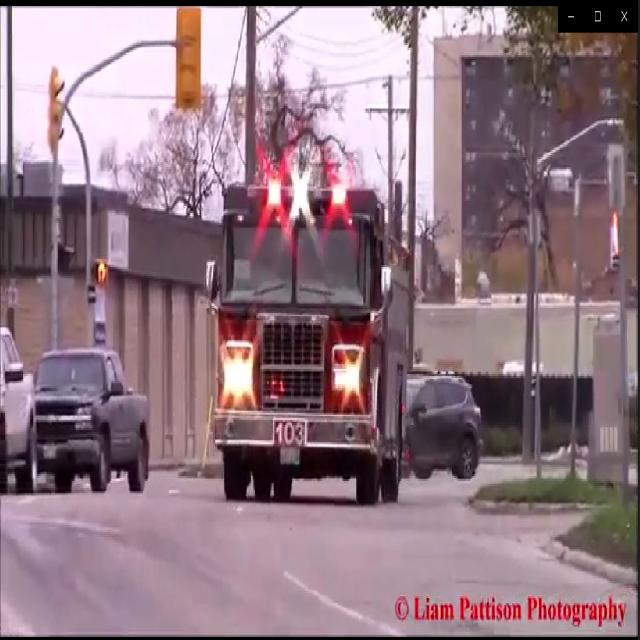emergency: (207, 150, 411, 500)
